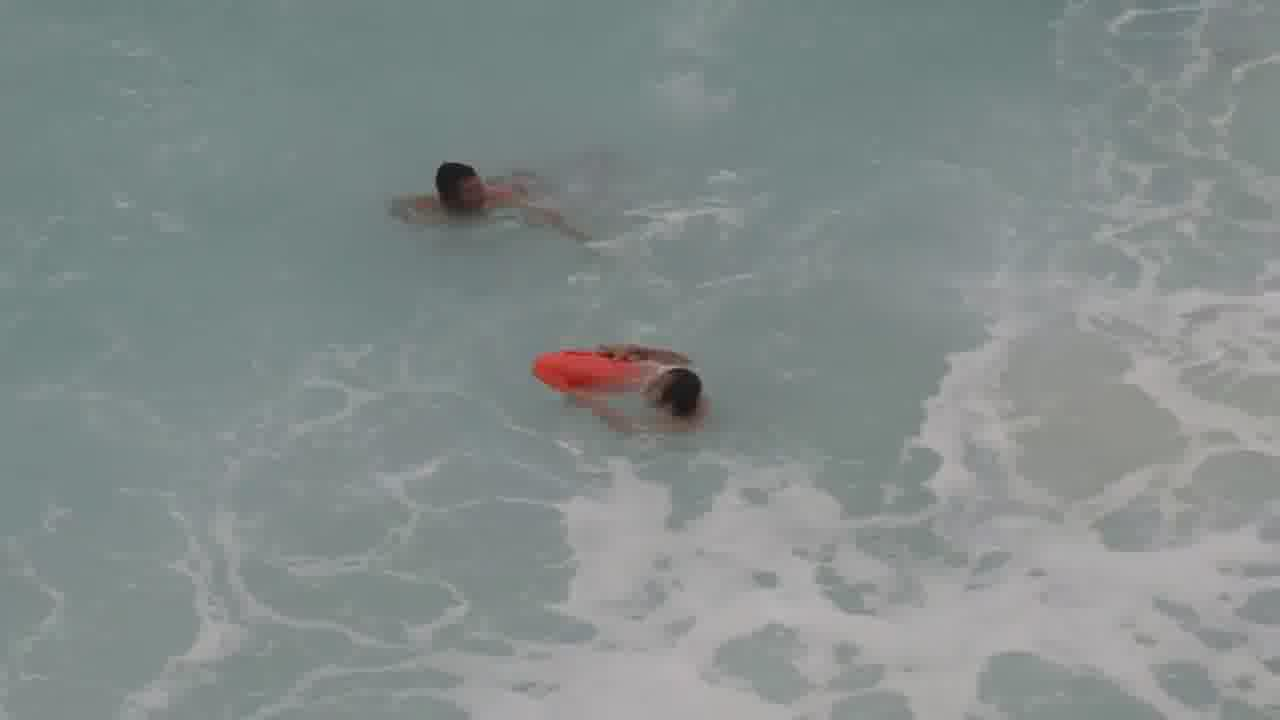swimmer: (369, 151, 606, 255), (531, 332, 713, 438)
